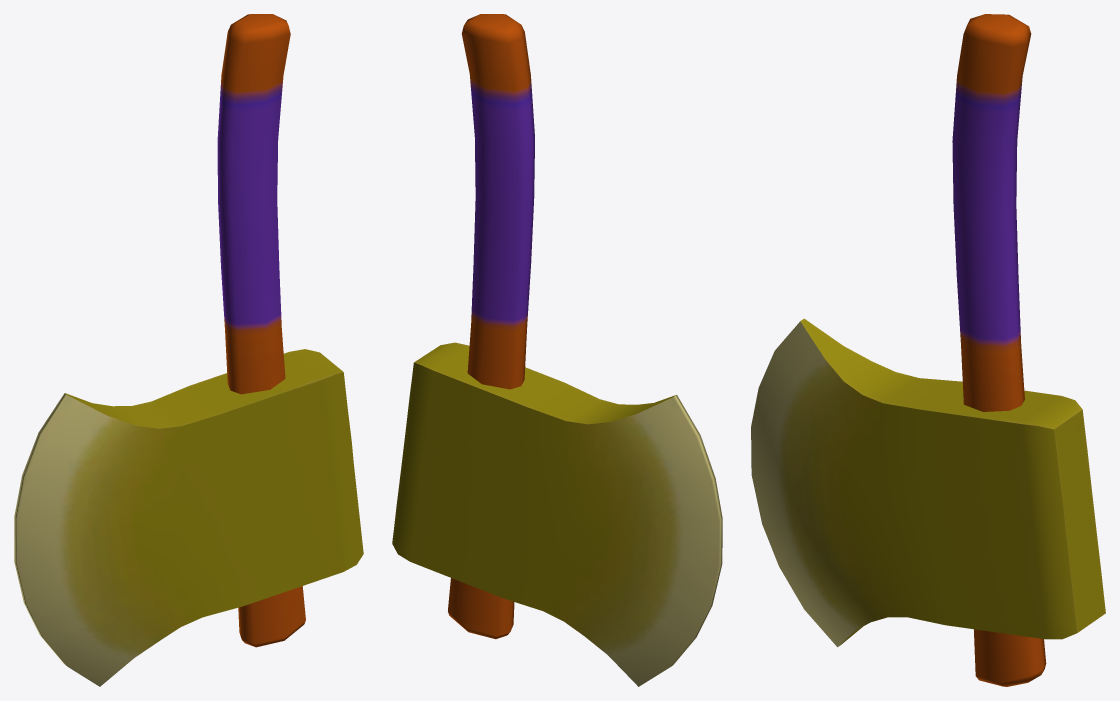
Rendered from ToolAxeGold.glb.
The picture shows the model from 3 angles, left to right: view 1: azimuth 30°, elevation 25°; view 2: azimuth 150°, elevation 25°; view 3: azimuth 330°, elevation 25°; orthographic projection. The views are drawn at different scales.
Visible parts, largest first — view 1: pCube4__mTool; view 2: pCube4__mTool; view 3: pCube4__mTool.
Part boxes in pixels (box(x1,y1,x2,y2)): pCube4__mTool: box(14, 14, 363, 686); pCube4__mTool: box(392, 14, 722, 686); pCube4__mTool: box(751, 14, 1105, 686).
Size of the model in its own units: 4.92 by 9.05 by 1.01.
Materials: 1 (1 with a texture image).
